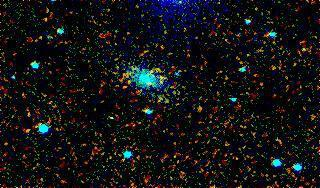star: (143, 65, 173, 95)
